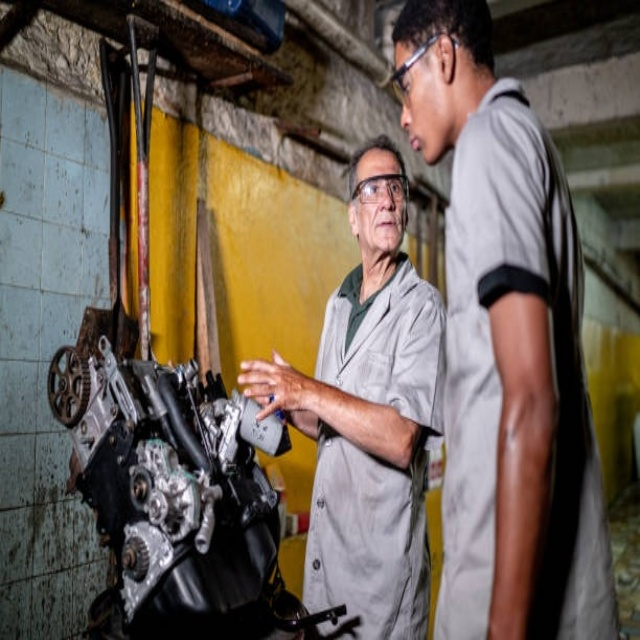Gafas: (391, 33, 457, 101), (351, 174, 409, 206)
Sin_guantes: (237, 345, 310, 418)
Sin_mascara: (404, 124, 433, 163), (370, 212, 399, 245)
